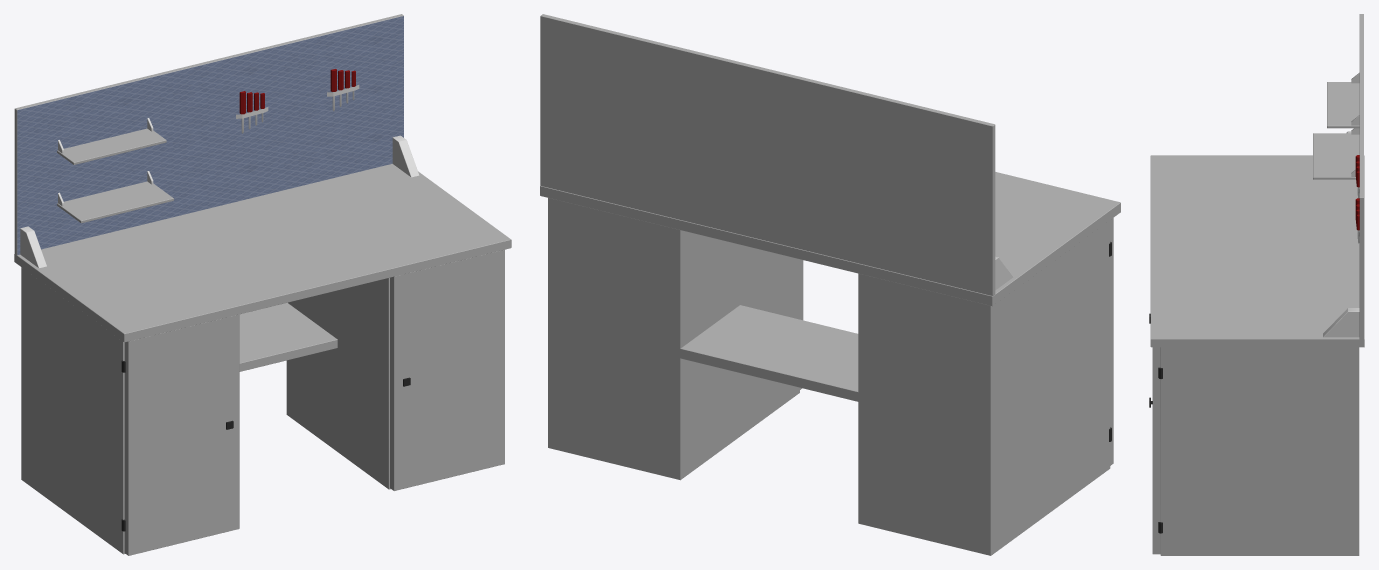
File: Work_Desk.fbx
The picture shows the model from 3 angles, left to right: view 1: azimuth 30°, elevation 25°; view 2: azimuth 150°, elevation 25°; view 3: azimuth 270°, elevation 25°; orthographic projection. The views are drawn at different scales.
Parts seen in each view (by area): view 1: WorkDesk; view 2: WorkDesk; view 3: WorkDesk.
Boxes of the visible parts, x1,y1,x2,y2 form: WorkDesk: [14, 14, 511, 555]; WorkDesk: [540, 14, 1120, 555]; WorkDesk: [1149, 14, 1364, 555].
Bounding box in the file's own units: 153 × 140 × 75.81.
